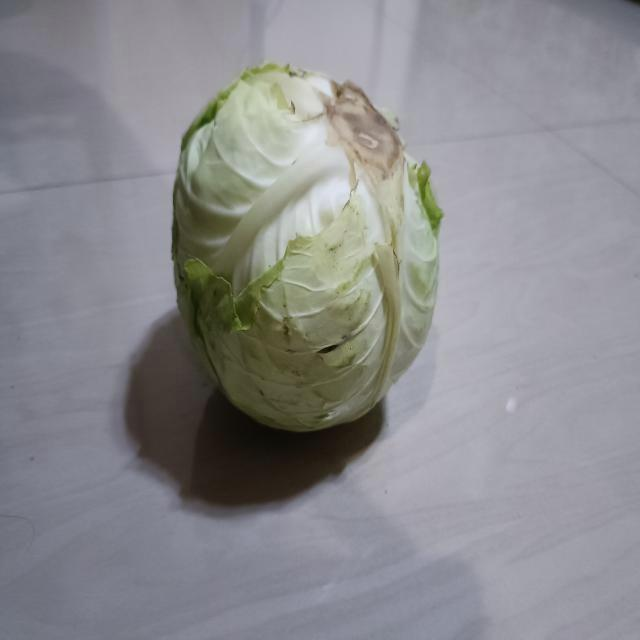cabbage: (167, 60, 443, 442)
